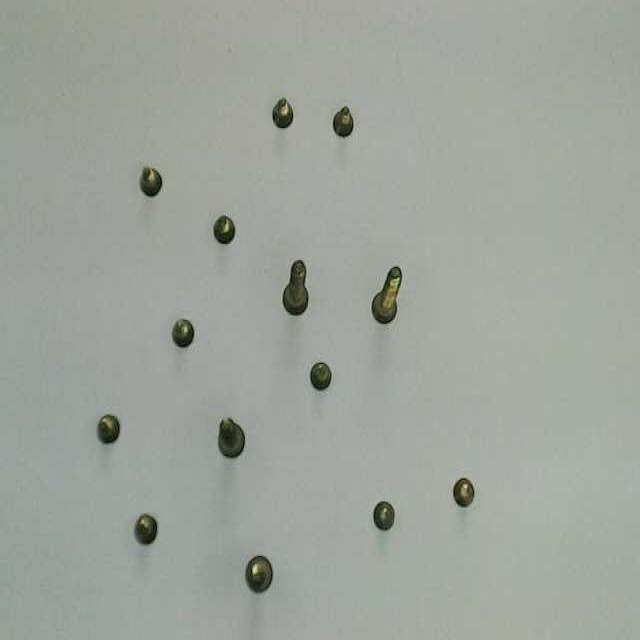Parafuso: (372, 267, 401, 323), (283, 260, 307, 314), (218, 418, 244, 458), (245, 556, 272, 593), (134, 514, 157, 545), (139, 167, 162, 197), (272, 98, 293, 129), (97, 414, 119, 443), (333, 106, 353, 137), (453, 478, 474, 507), (213, 215, 234, 243), (310, 362, 331, 390), (172, 319, 193, 347), (373, 502, 394, 530)
